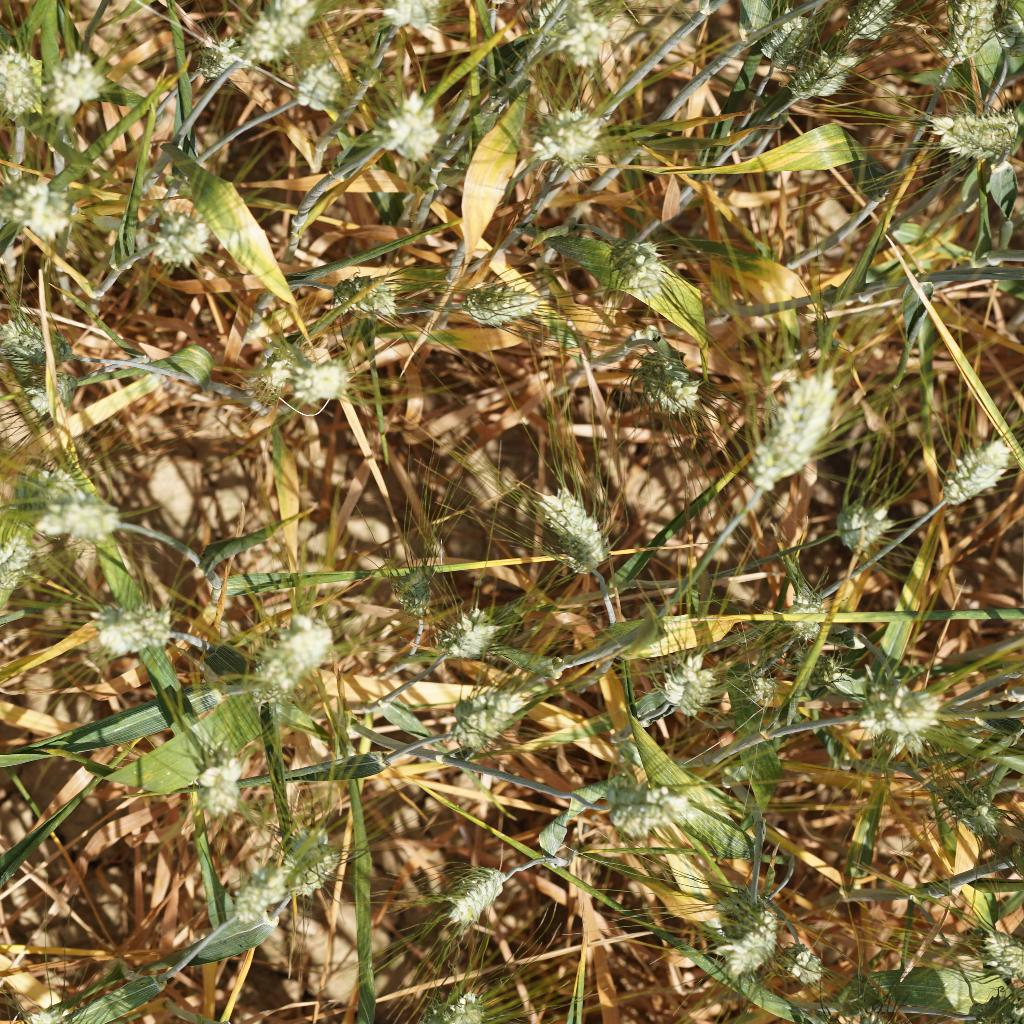0-0: (743, 350, 833, 505), (241, 601, 340, 714), (12, 451, 129, 542), (511, 473, 613, 567), (434, 662, 529, 748), (841, 656, 937, 740), (938, 417, 1024, 507), (921, 100, 1023, 166), (516, 98, 612, 167), (602, 773, 697, 841), (38, 45, 116, 126), (440, 852, 519, 931), (623, 328, 702, 406), (374, 88, 451, 168), (88, 594, 172, 664), (272, 816, 343, 898), (139, 204, 219, 276), (758, 0, 826, 80), (717, 897, 784, 976), (377, 545, 444, 623), (557, 3, 634, 70), (458, 271, 541, 331), (226, 856, 292, 930), (0, 175, 74, 240), (235, 0, 317, 58), (188, 750, 251, 825), (788, 43, 875, 97), (0, 306, 67, 376), (662, 646, 728, 716), (0, 25, 49, 119), (768, 582, 844, 642), (944, 0, 1008, 71), (325, 258, 397, 321), (587, 227, 668, 281), (242, 335, 305, 404), (833, 496, 899, 560), (946, 774, 1006, 840), (286, 53, 354, 111), (451, 604, 514, 666), (17, 376, 96, 425), (732, 645, 784, 716), (298, 357, 357, 414), (849, 0, 920, 43), (420, 987, 501, 1024), (980, 916, 1024, 984), (0, 529, 43, 593), (373, 0, 447, 36), (188, 35, 242, 83), (777, 937, 826, 986)
